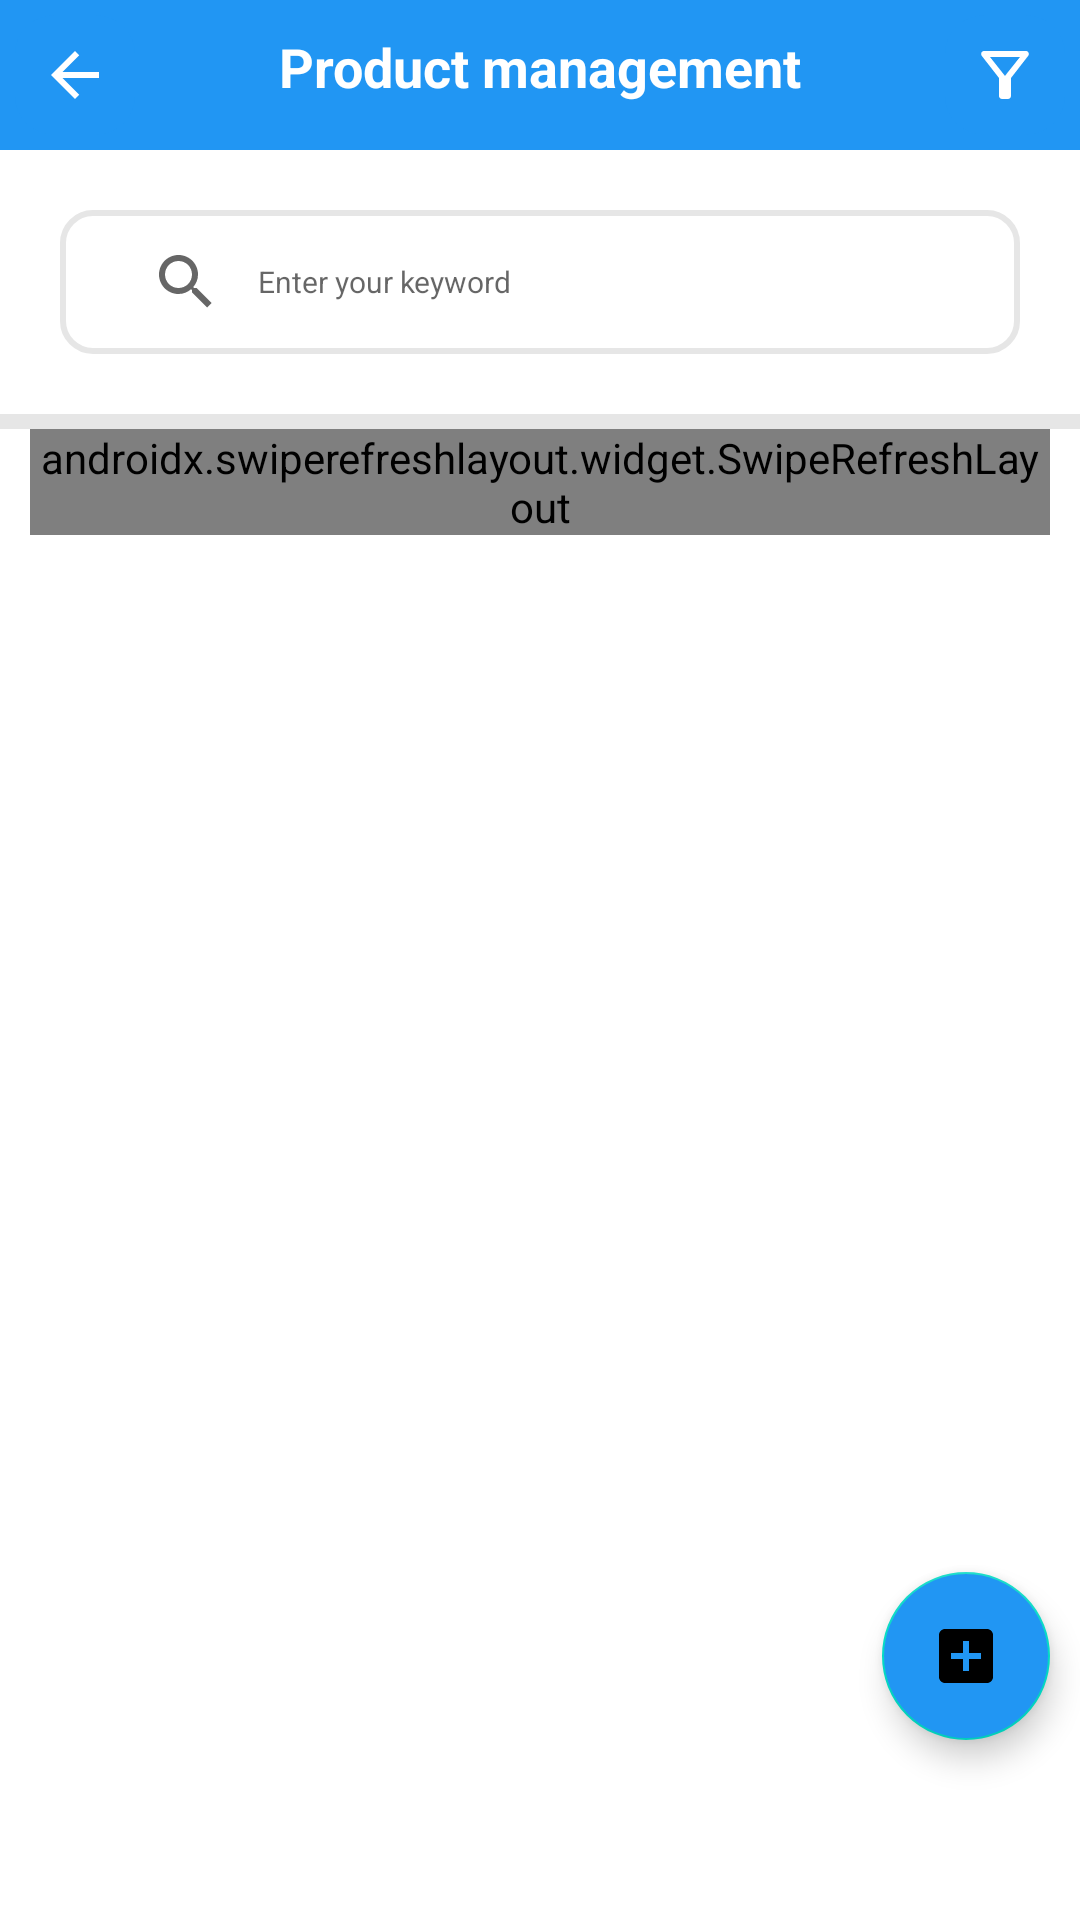

Locate icon controls on the screen. Image size 1080 × 1920, boxes as (x1, y1, x2, y2).
arrow back: (51, 51, 99, 99)
Button Add Product: (882, 1572, 1050, 1740)
filter: (981, 51, 1029, 99)
